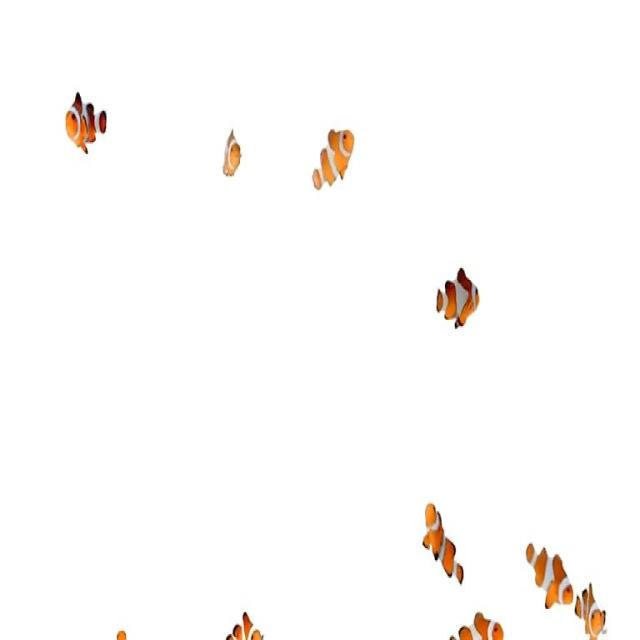fish: (421, 500, 466, 583), (525, 542, 575, 612), (311, 117, 355, 194), (60, 86, 107, 156), (434, 264, 481, 334), (573, 581, 608, 637), (218, 606, 264, 640), (218, 121, 244, 178), (451, 614, 505, 640)
